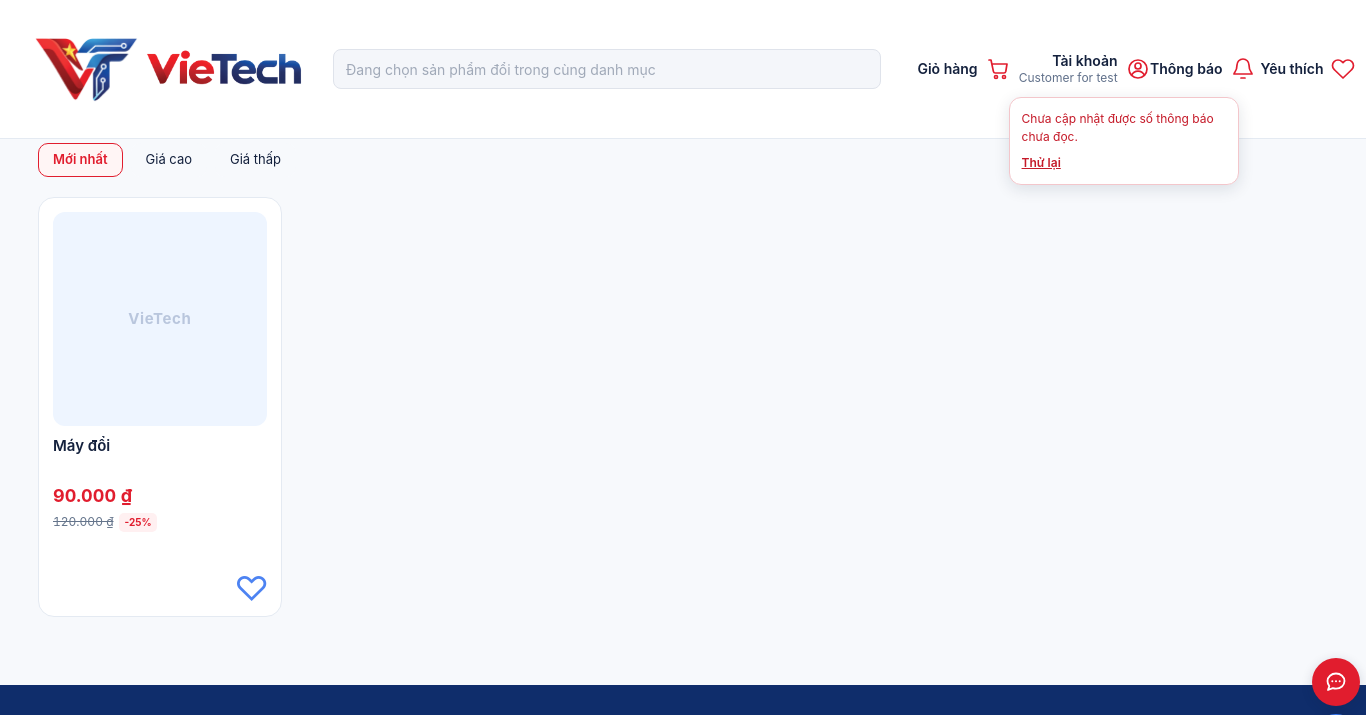
Test: exchange search locks the category from the server, keeps context through product and checkout, and never adds to cart
(page scrolled)
Expected: the heading "Máy đổi" is shown, 53,436 -> 110,455
Expected: the field named "Tìm kiếm" is disabled, 333,49 -> 882,89
Click the link "VieTech Máy đổi 90.000 ₫ 120.000 ₫ -25%".
click(160, 384)  # box 39,198 -> 281,570
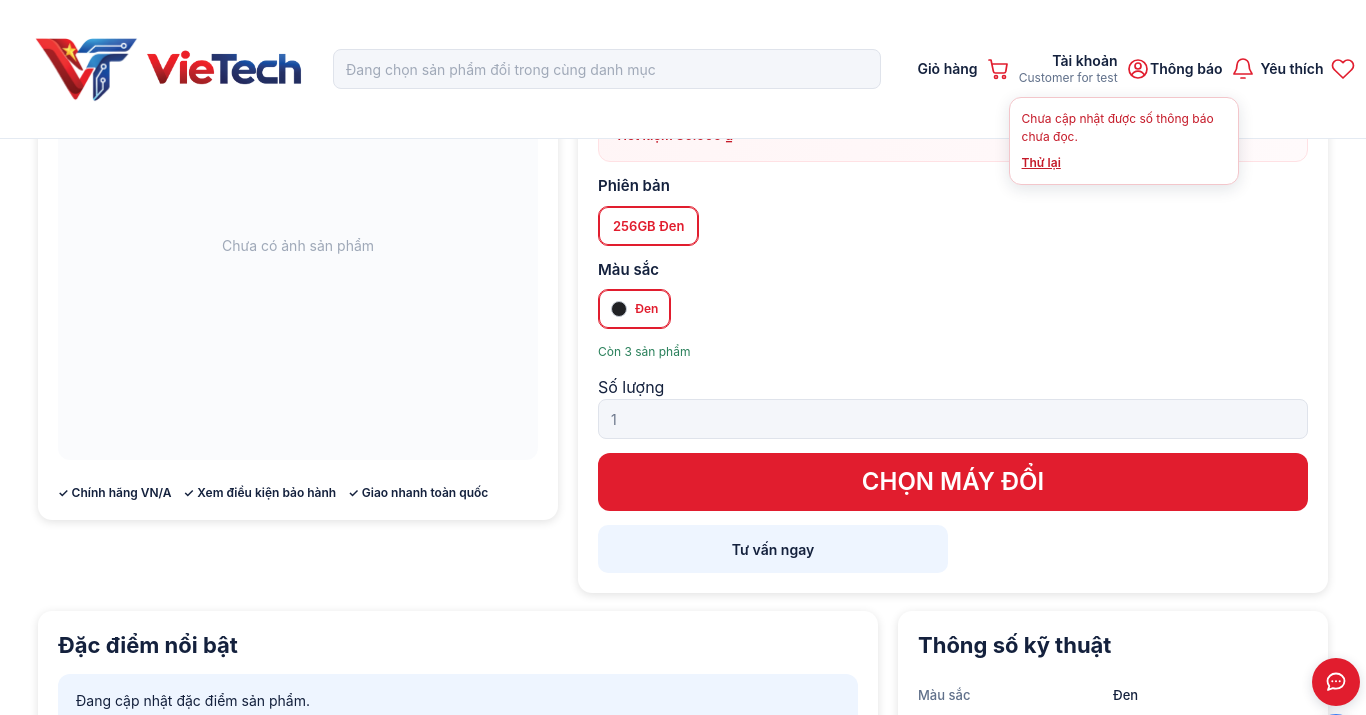
Expected: the number field labelled "Số lượng" is disabled, 598,400 -> 1308,440
Expected: the button "CHỌN MÁY ĐỔI" is shown
Click the button "CHỌN MÁY ĐỔI".
click(953, 482)  # box 598,454 -> 1308,512
(page scrolled)
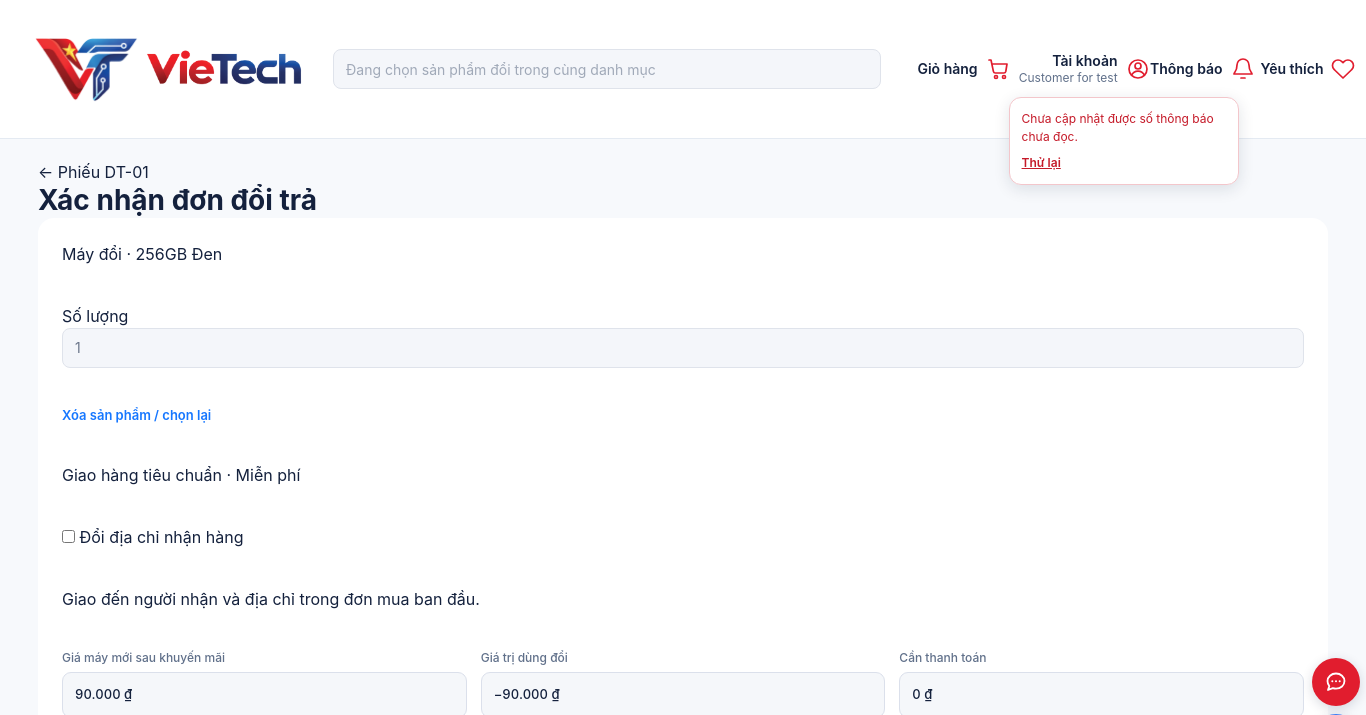
Expected: the heading "Xác nhận đơn đổi trả" is shown, 38,183 -> 317,217
